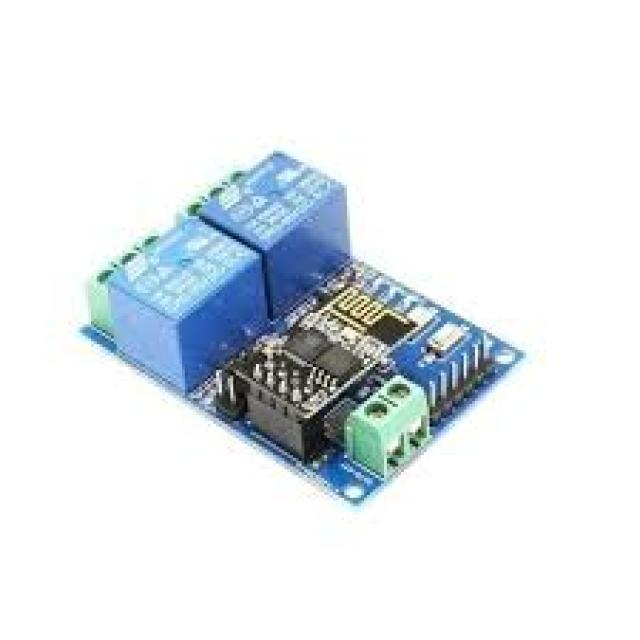Relay: (85, 151, 521, 503)
